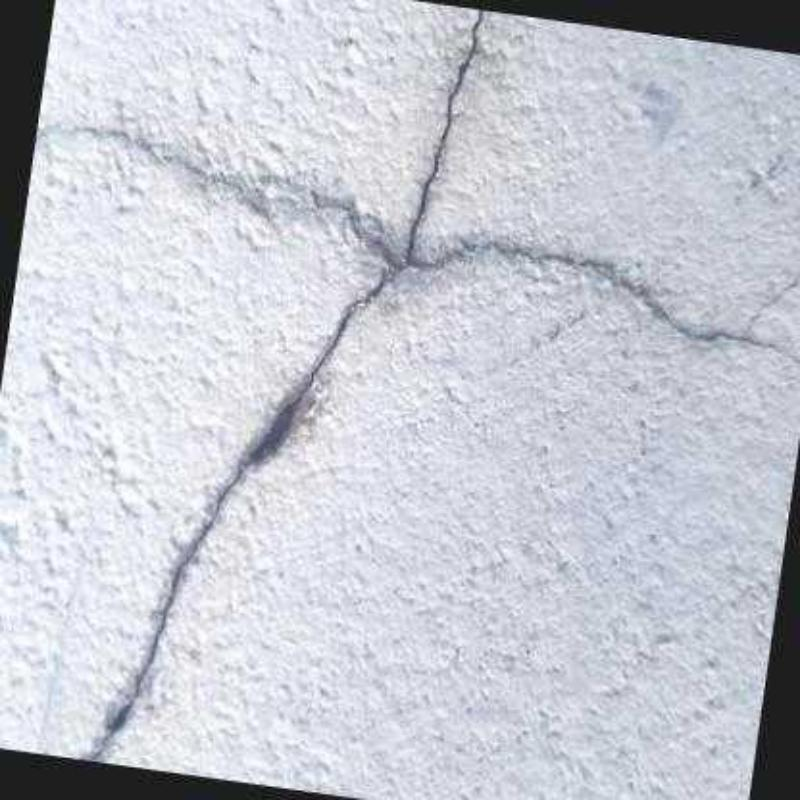pothole: (80, 9, 617, 763), (613, 269, 798, 362)
